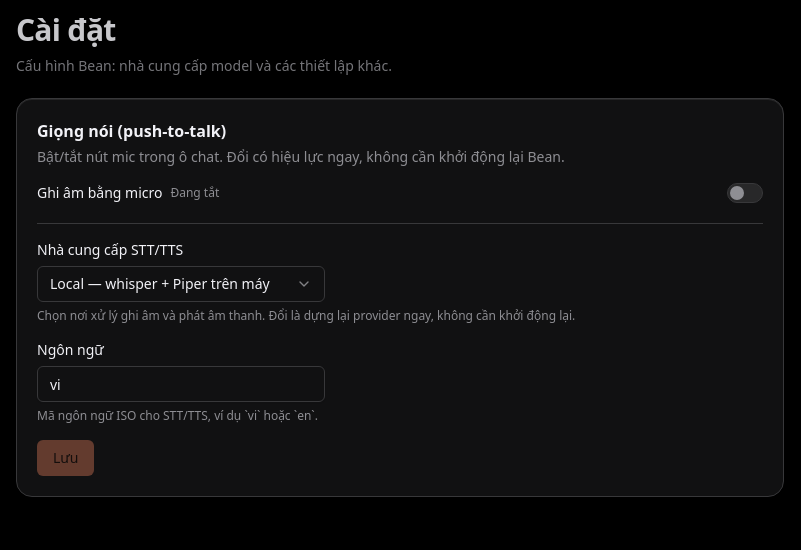
it: SettingsPage — Voice › server từ chối (422 voice_state_unwritable): alert lỗi, switch giữ nguyên
Click the switch named "Bật/tắt giọng nói": (745, 193) left=727, top=183, right=763, bottom=203
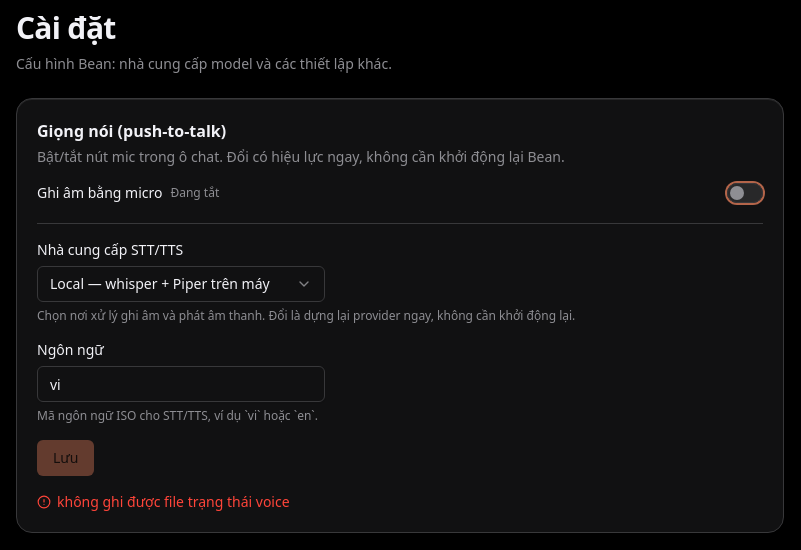
expect the message reads "không ghi được file trạng thái voice": met, box left=57, top=492, right=290, bottom=511
